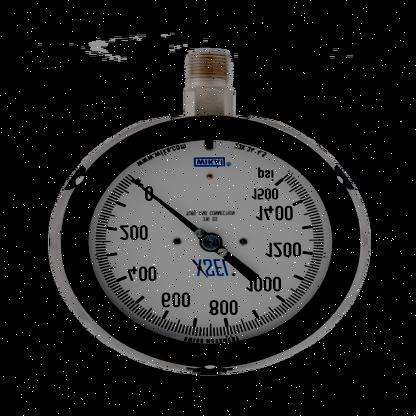needle: (131, 177, 199, 233)
